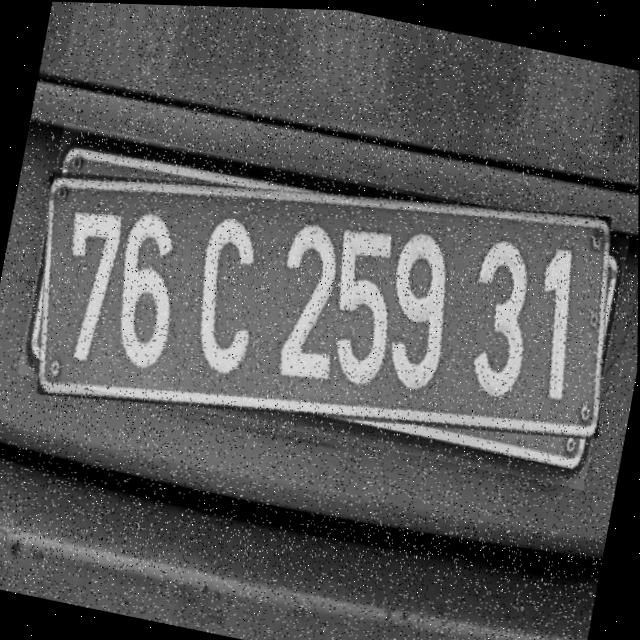LicensePlate: (17, 120, 630, 487)
